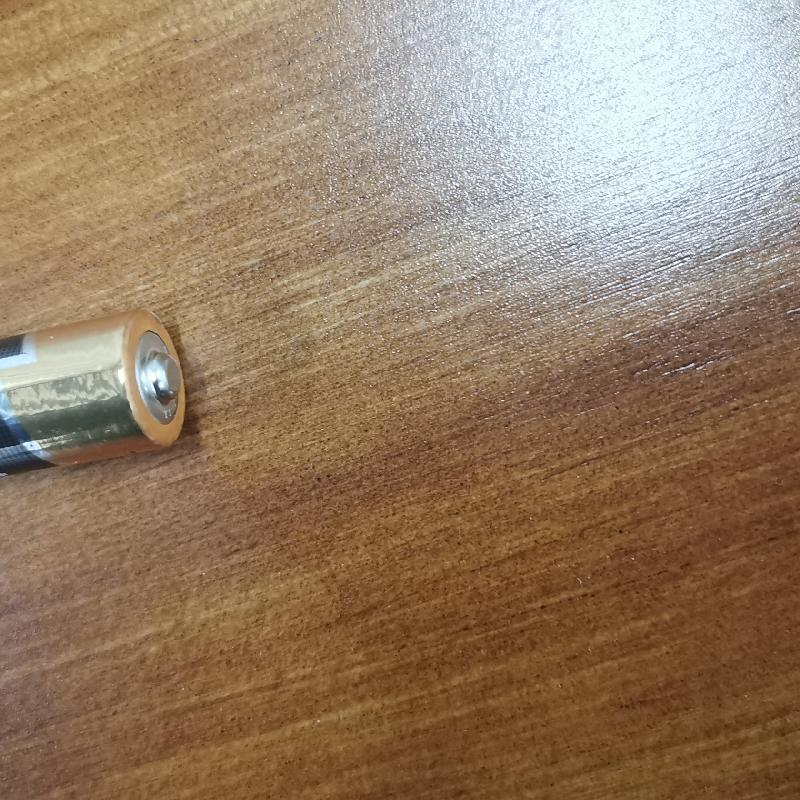battery: (4, 295, 192, 477)
